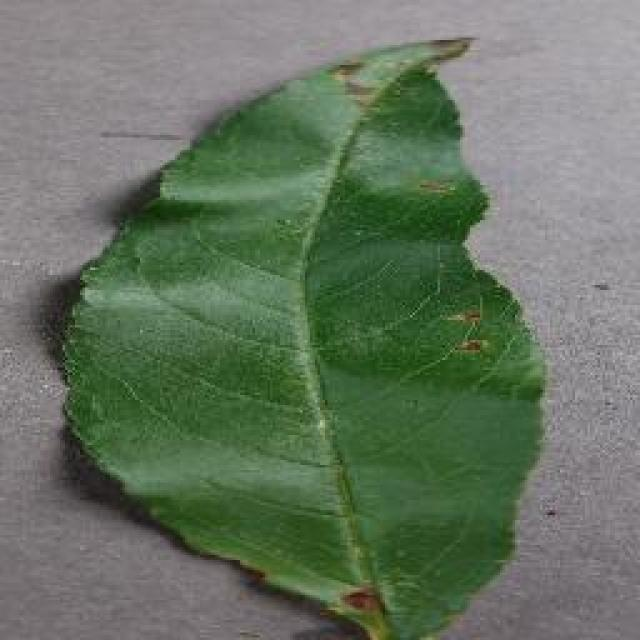Peach_Bacterial_Spot: (280, 28, 495, 407)
